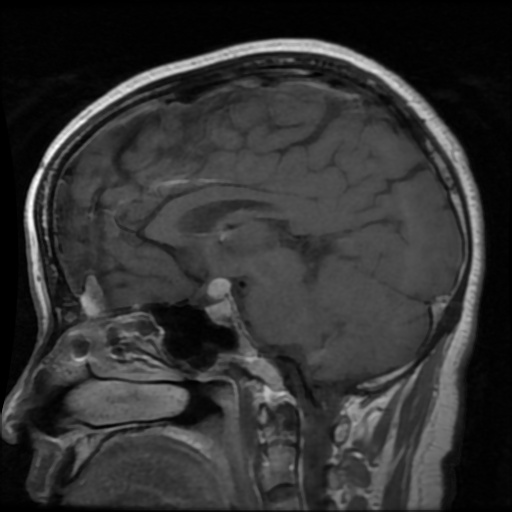pituitary: (203, 277, 235, 321)
